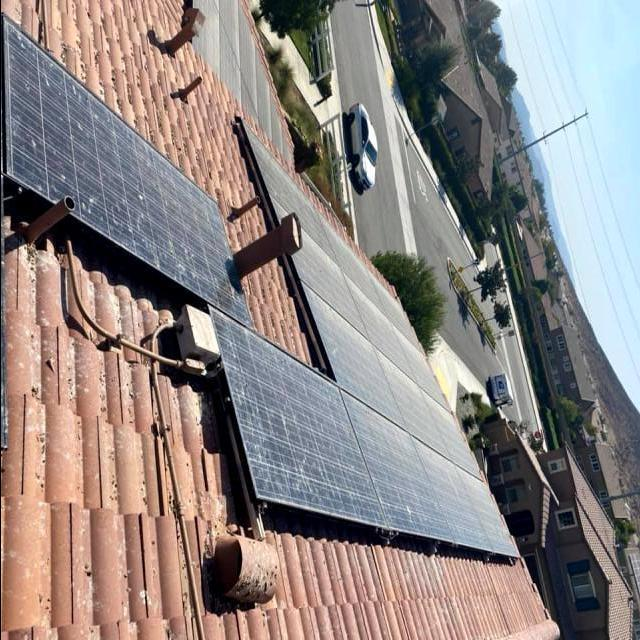soiled: (228, 138, 517, 566), (8, 44, 246, 322)
